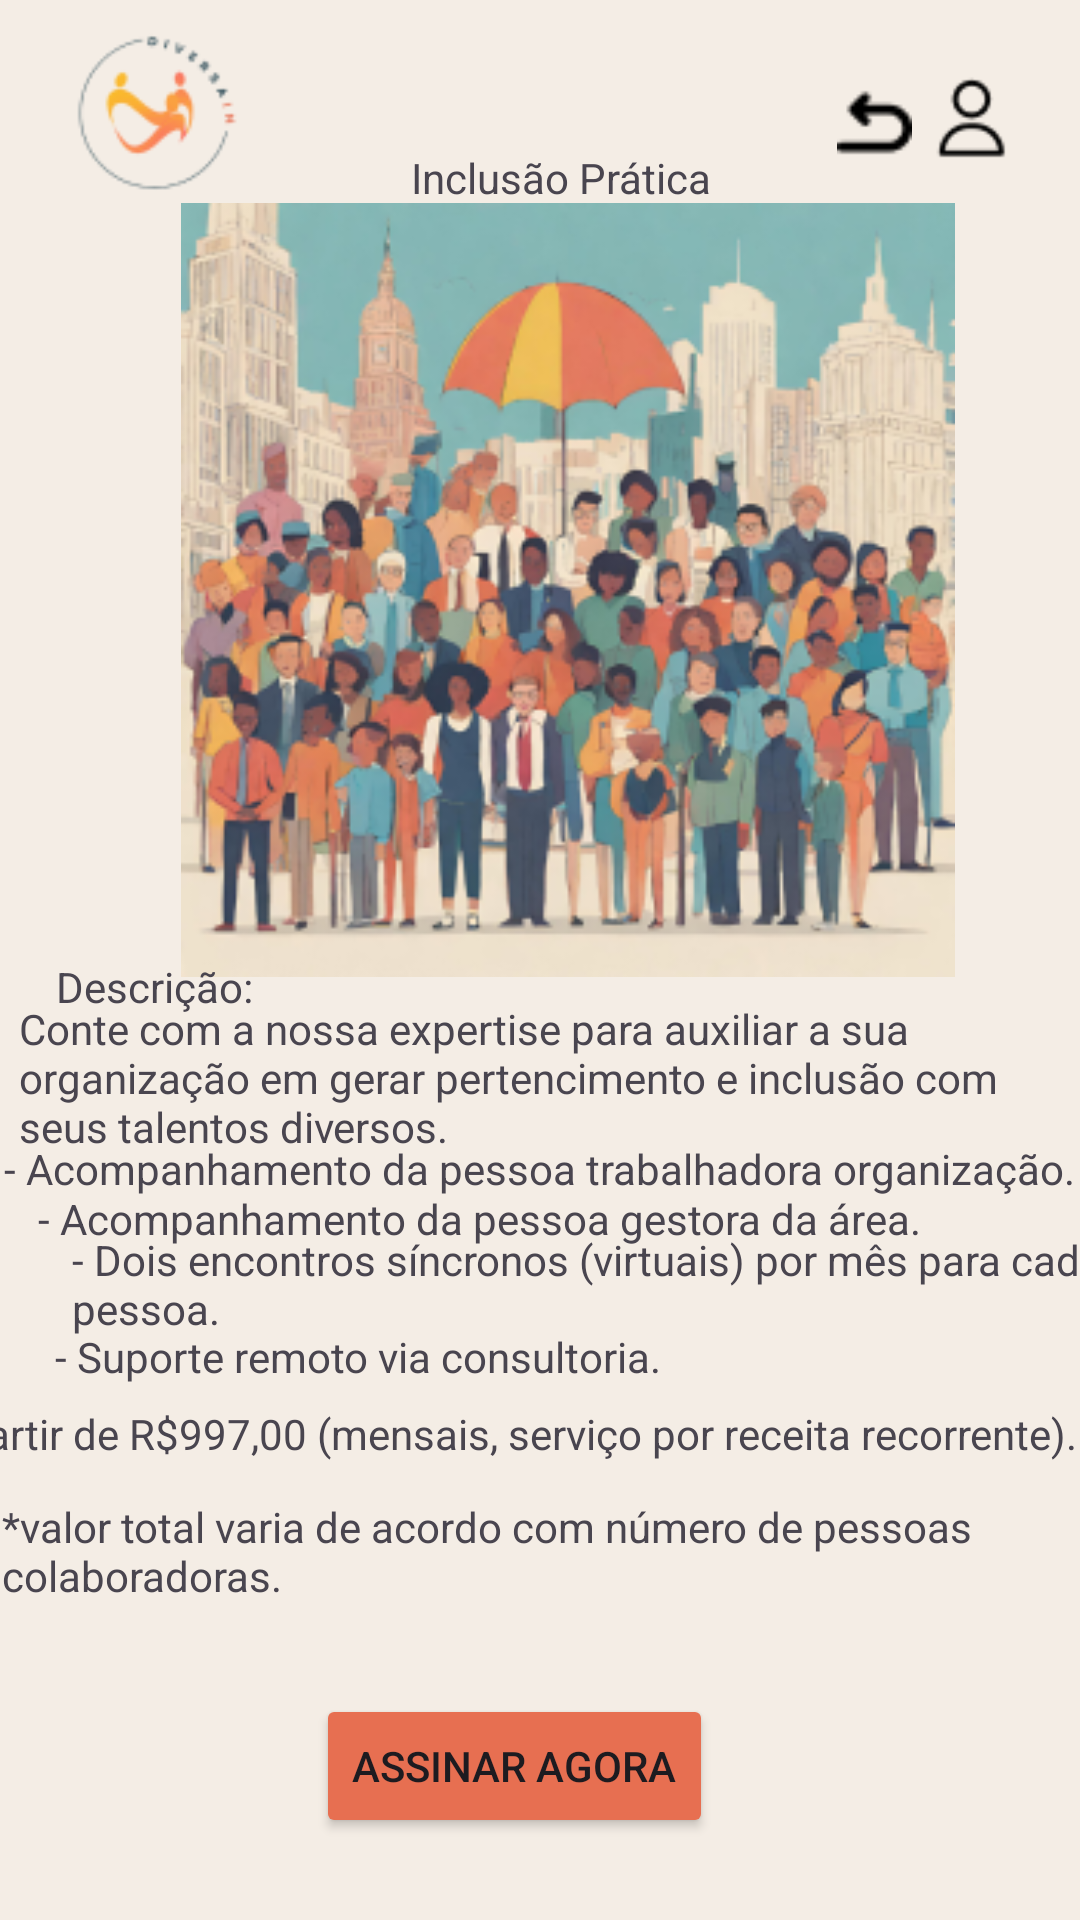

Locate icon controls on the screen. Image size 1080 × 1920, boxes as [x1=x1, y1=y1, x2=x2, y2=y2].
voltar: [x1=837, y1=91, x2=912, y2=154]
